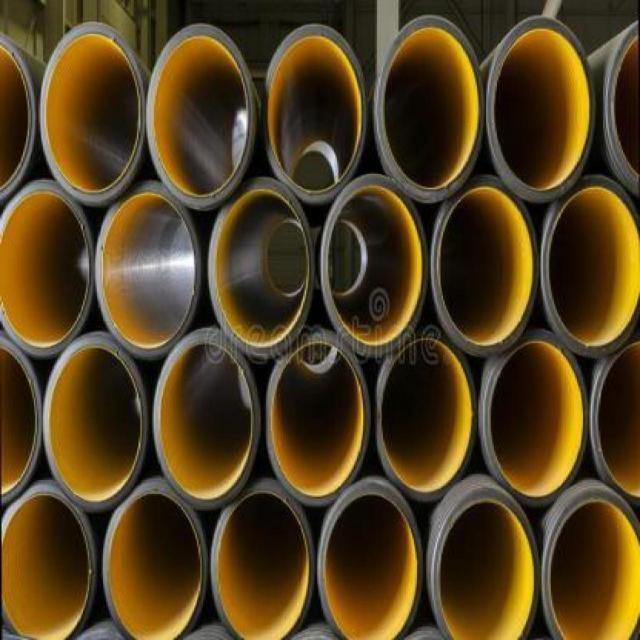pipe: (146, 24, 256, 209), (375, 16, 483, 201), (487, 17, 595, 202), (39, 21, 147, 204), (320, 174, 428, 356), (208, 178, 315, 360), (152, 329, 260, 509), (431, 175, 538, 354), (261, 24, 368, 203), (42, 332, 147, 511), (96, 180, 200, 358), (266, 332, 371, 506), (483, 331, 588, 503), (542, 175, 639, 357), (375, 332, 477, 504), (0, 177, 96, 359), (101, 481, 208, 639), (318, 481, 423, 640), (211, 481, 314, 640), (432, 489, 540, 640), (0, 478, 98, 638), (543, 486, 640, 639), (591, 337, 639, 507), (0, 31, 37, 202)
